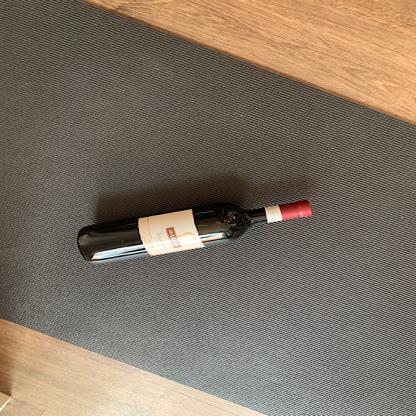trash: (72, 195, 318, 268)
